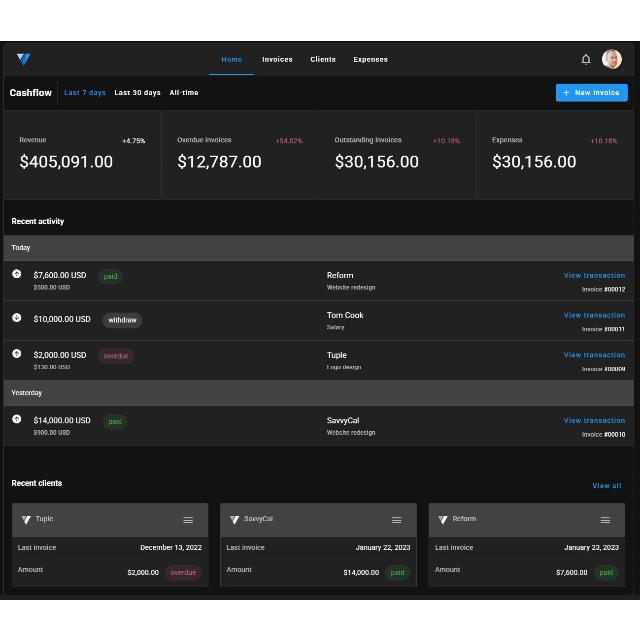QLabel: (20, 154, 116, 168), (492, 154, 580, 168), (177, 154, 263, 168), (336, 153, 418, 167), (562, 310, 630, 318), (562, 350, 628, 358), (563, 270, 625, 278), (34, 349, 86, 358), (33, 314, 91, 322), (32, 416, 90, 424), (9, 216, 66, 224), (11, 478, 64, 486), (34, 271, 86, 279), (335, 136, 403, 142), (562, 416, 630, 422), (8, 88, 54, 96), (562, 544, 622, 550), (114, 88, 164, 95), (176, 136, 234, 142), (356, 544, 412, 550), (64, 89, 106, 97), (326, 284, 378, 290), (326, 310, 364, 318), (326, 429, 376, 435), (326, 416, 360, 424), (10, 388, 44, 396), (344, 568, 378, 576), (325, 364, 363, 371), (224, 544, 268, 550), (16, 544, 59, 550), (127, 568, 159, 576), (556, 568, 588, 576), (353, 54, 389, 61), (434, 544, 476, 550), (243, 514, 274, 522), (32, 429, 72, 435), (32, 363, 72, 369), (591, 481, 621, 489), (33, 284, 71, 290), (261, 54, 293, 61), (451, 514, 477, 522), (168, 89, 200, 95), (492, 136, 524, 142), (220, 55, 243, 63), (310, 54, 336, 61), (108, 316, 138, 322), (18, 136, 48, 142), (10, 243, 32, 251), (326, 351, 348, 359), (326, 272, 354, 278), (434, 566, 462, 572), (225, 566, 253, 572), (276, 137, 304, 143), (17, 566, 45, 572), (434, 137, 462, 143), (170, 569, 198, 575), (592, 137, 618, 143), (122, 137, 146, 143), (36, 514, 54, 522), (104, 353, 128, 359), (604, 286, 626, 292), (326, 323, 346, 329), (582, 365, 602, 371), (582, 286, 602, 292), (604, 326, 624, 332), (390, 568, 404, 576), (600, 568, 614, 576), (108, 418, 122, 426), (184, 544, 202, 550), (104, 272, 116, 280), (582, 326, 602, 330), (582, 432, 602, 436), (604, 366, 624, 370), (604, 432, 624, 436)
VAppBar: (4, 43, 634, 75)
VAvatar: (602, 48, 622, 68)
VBtn: (554, 82, 628, 101)
VCard: (220, 502, 418, 588), (428, 502, 626, 588), (11, 502, 209, 588)
VChip: (164, 564, 202, 582), (102, 312, 142, 328), (98, 348, 134, 364), (97, 268, 123, 284), (102, 414, 128, 430), (386, 565, 410, 581), (594, 565, 618, 581)
VDivider: (435, 556, 619, 560), (18, 558, 202, 560), (226, 558, 410, 560), (574, 88, 620, 95), (56, 80, 58, 104)
VIcon: (16, 52, 32, 66), (580, 53, 592, 65), (21, 514, 31, 526), (12, 268, 22, 278), (12, 312, 22, 322), (12, 348, 22, 358), (230, 514, 240, 524), (438, 514, 448, 524), (182, 516, 194, 524), (12, 413, 22, 422), (392, 516, 402, 524), (600, 517, 610, 523), (564, 90, 568, 94)
